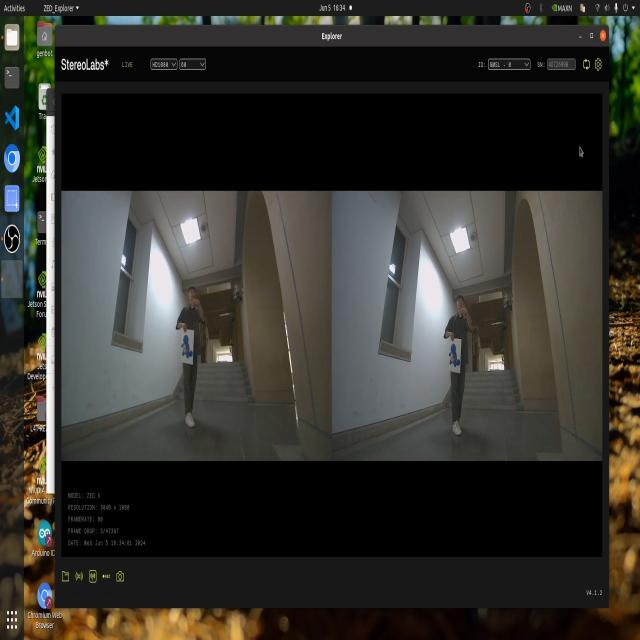blue: (176, 329, 194, 365), (447, 339, 462, 373)
